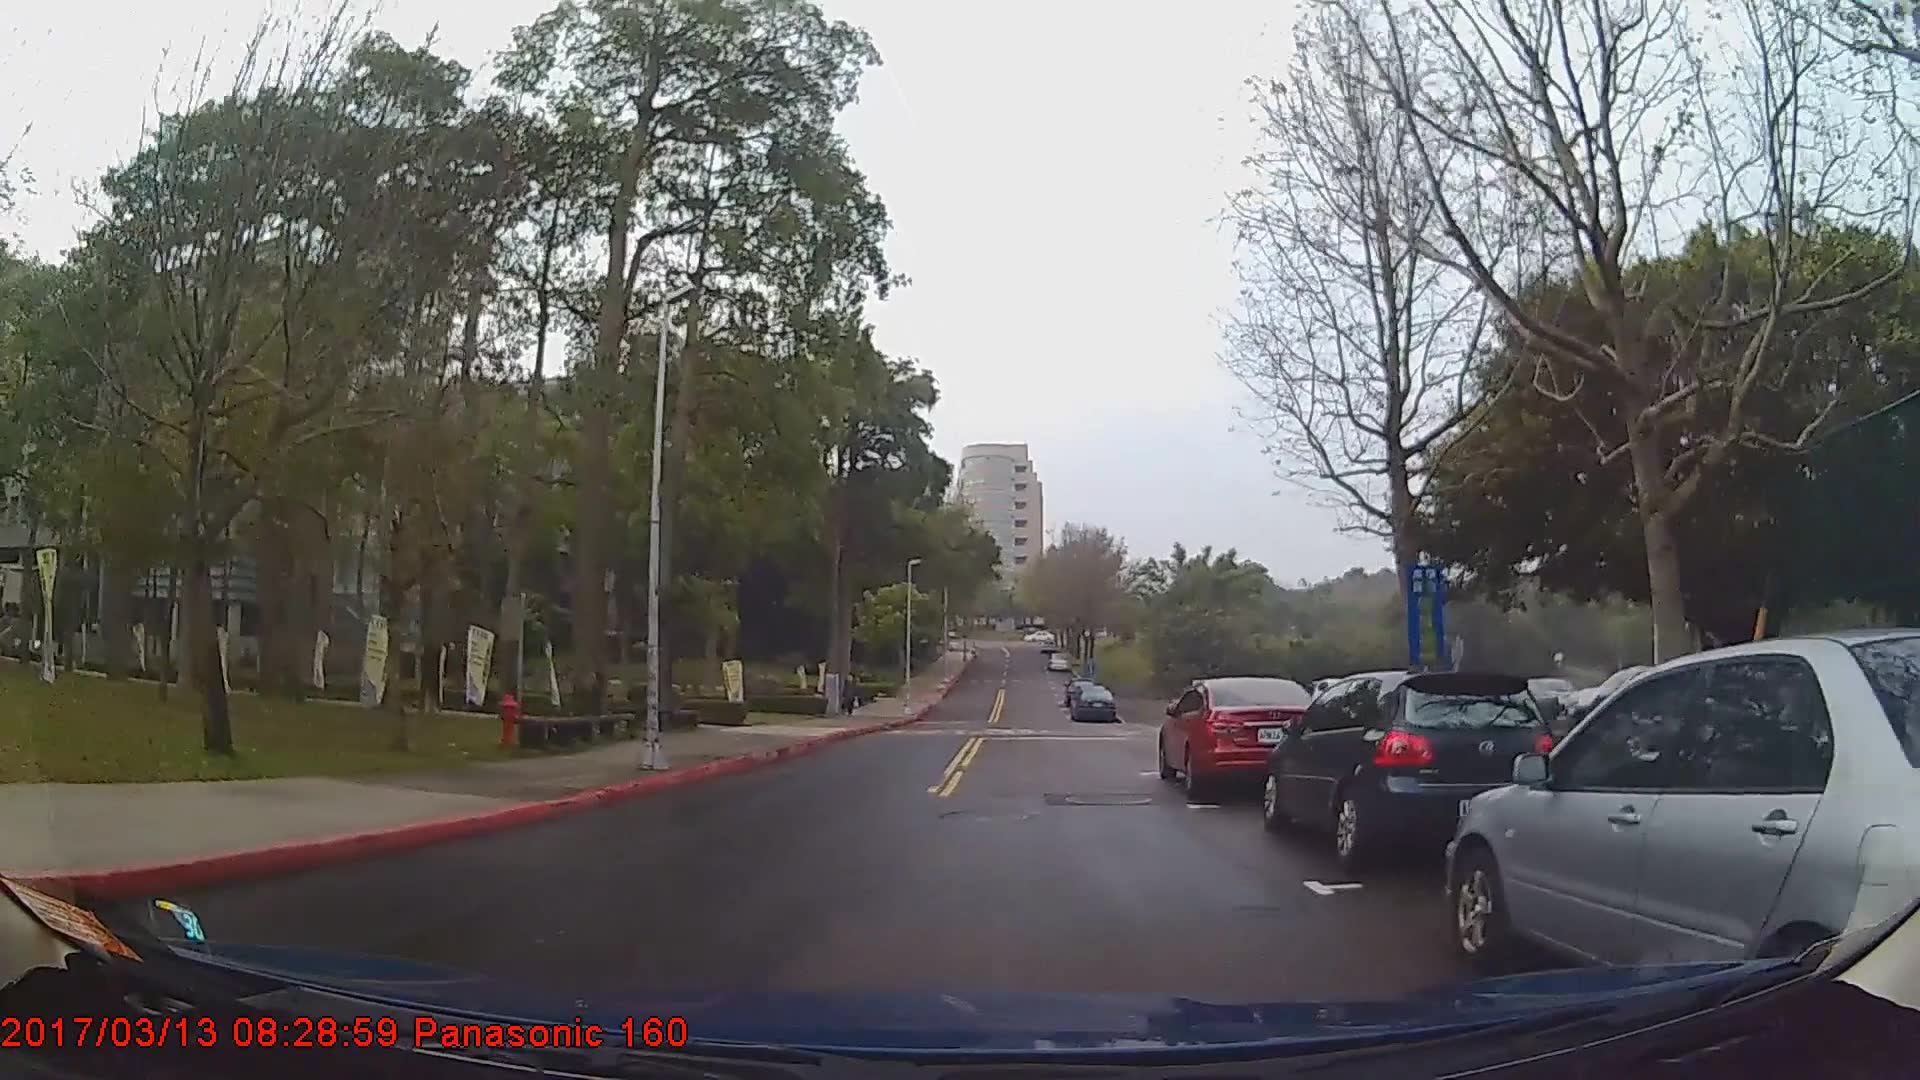vehicle: (1444, 626, 1920, 1034), (1261, 673, 1553, 862), (1155, 679, 1327, 802), (1069, 684, 1120, 723)
